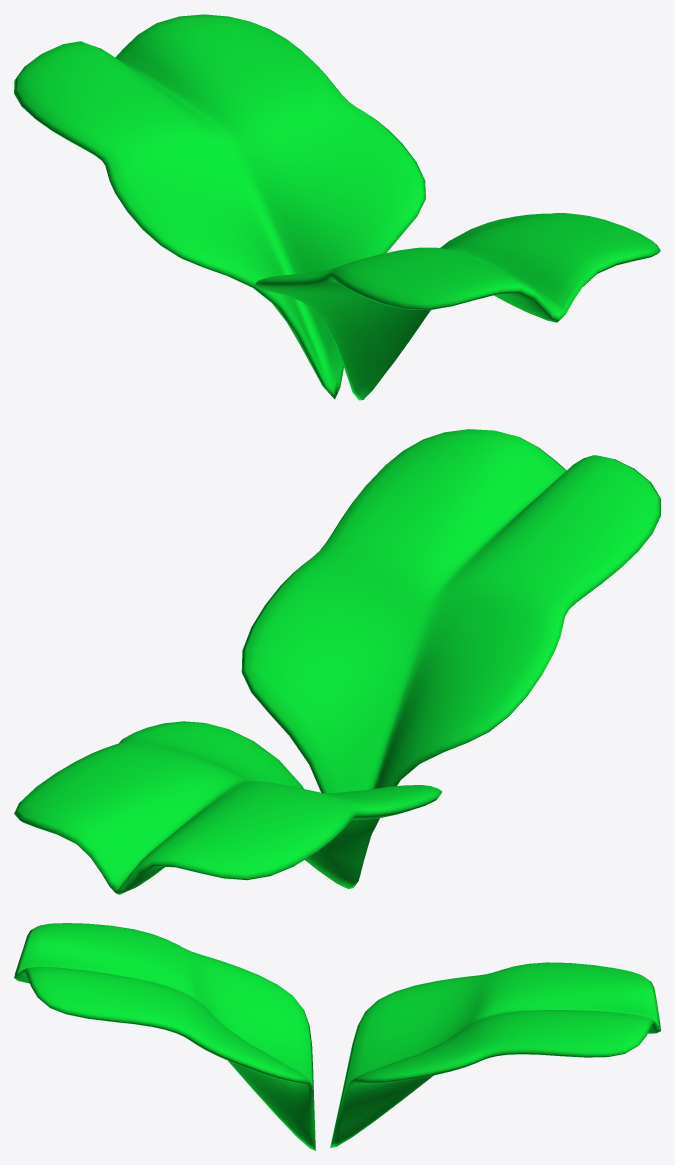
File: Tomates_Croissance_1.fbx
3 views of the same model, one above another, from view 1: azimuth 30°, elevation 25°; view 2: azimuth 150°, elevation 25°; view 3: azimuth 270°, elevation 25° (orthographic). The views are drawn at different scales.
Visible parts, largest first — view 1: Plante; view 2: Plante; view 3: Plante.
Boxes of the visible parts, box(x1,y1,x2,y2) form: Plante: box(14, 14, 660, 400); Plante: box(14, 429, 660, 894); Plante: box(14, 923, 660, 1150).
Bounding box in the file's own units: 42.97 × 40.22 × 119.
